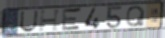4: (84, 6, 102, 30)
5: (106, 6, 124, 29)
E: (61, 7, 83, 32)
H: (38, 8, 62, 33)
Q: (126, 5, 147, 28)
U: (19, 10, 40, 33)
